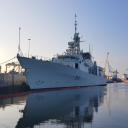Fragata: (17, 12, 109, 93)
